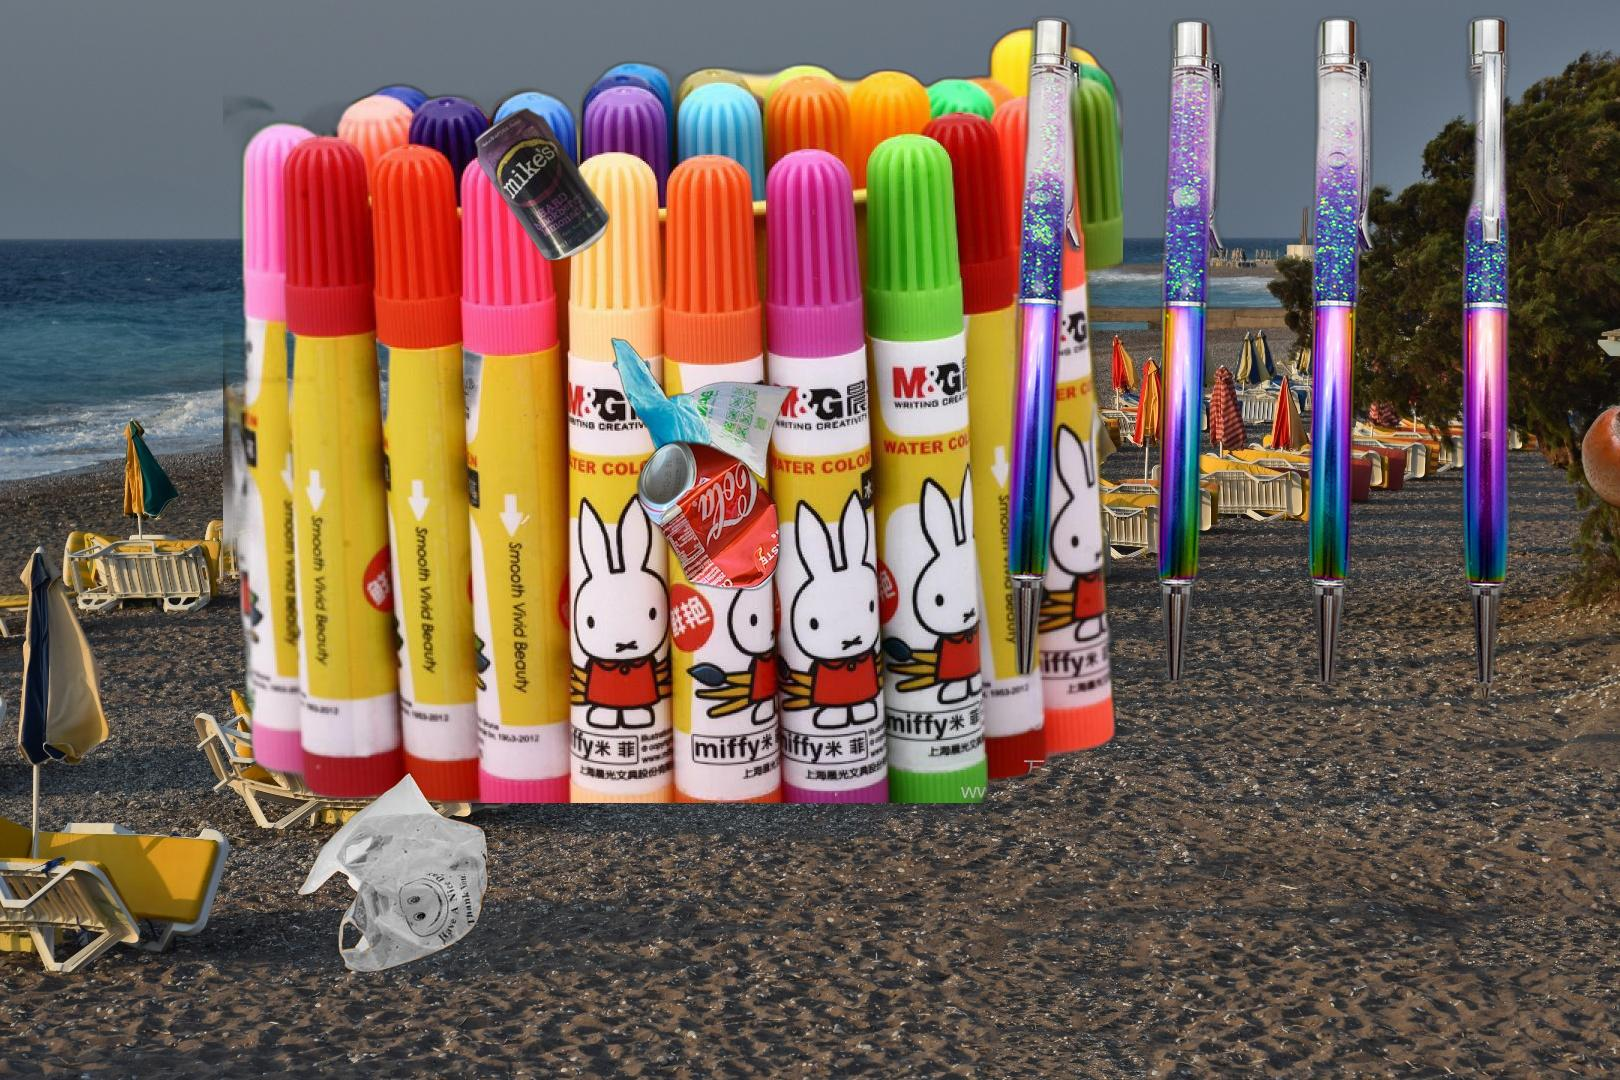biological: (1578, 364, 1620, 564)
glass: (90, 859, 597, 1080)
metal-cans: (632, 434, 785, 597), (469, 105, 614, 264)
penholder: (223, 20, 1123, 803), (999, 8, 1516, 708)
plastic-bag: (294, 770, 491, 973), (607, 336, 797, 498)
